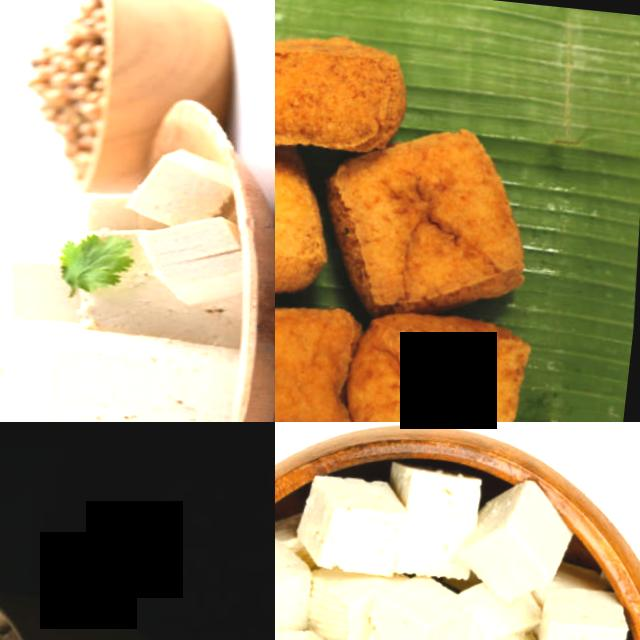tofu: (322, 132, 539, 313), (345, 291, 544, 422), (45, 307, 250, 422), (275, 20, 414, 155), (292, 465, 419, 582), (460, 472, 575, 600), (275, 290, 376, 422), (275, 117, 339, 304), (139, 200, 252, 300), (362, 560, 483, 640), (135, 134, 239, 225), (532, 573, 639, 640), (2, 234, 69, 321), (275, 532, 327, 640)
